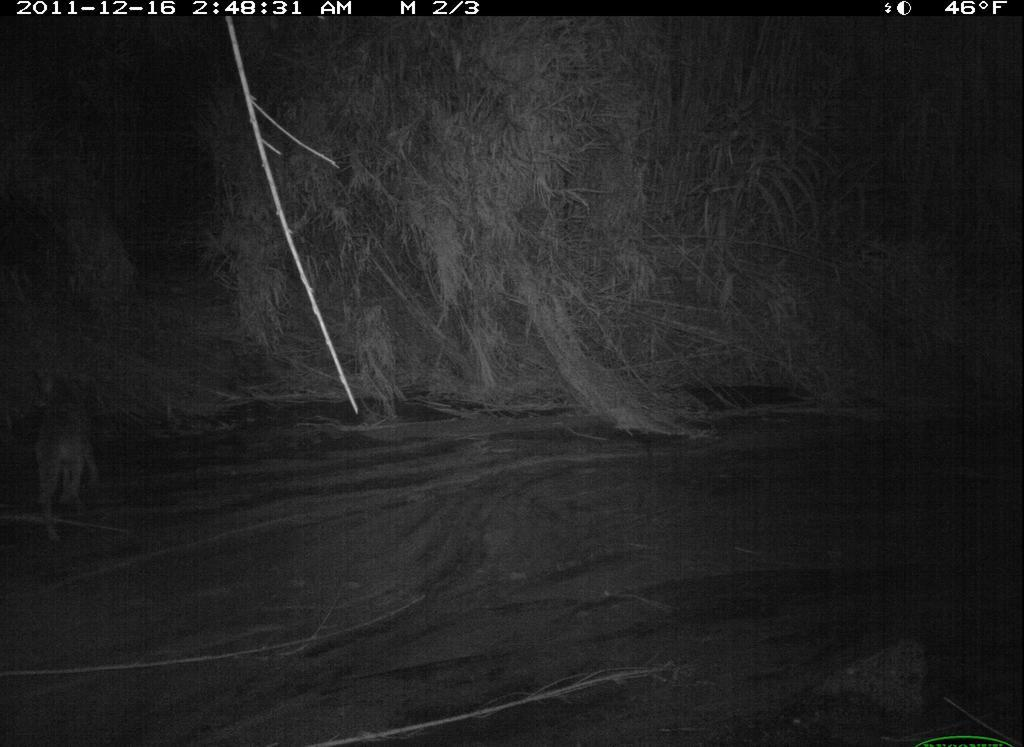coyote: (31, 364, 97, 548)
